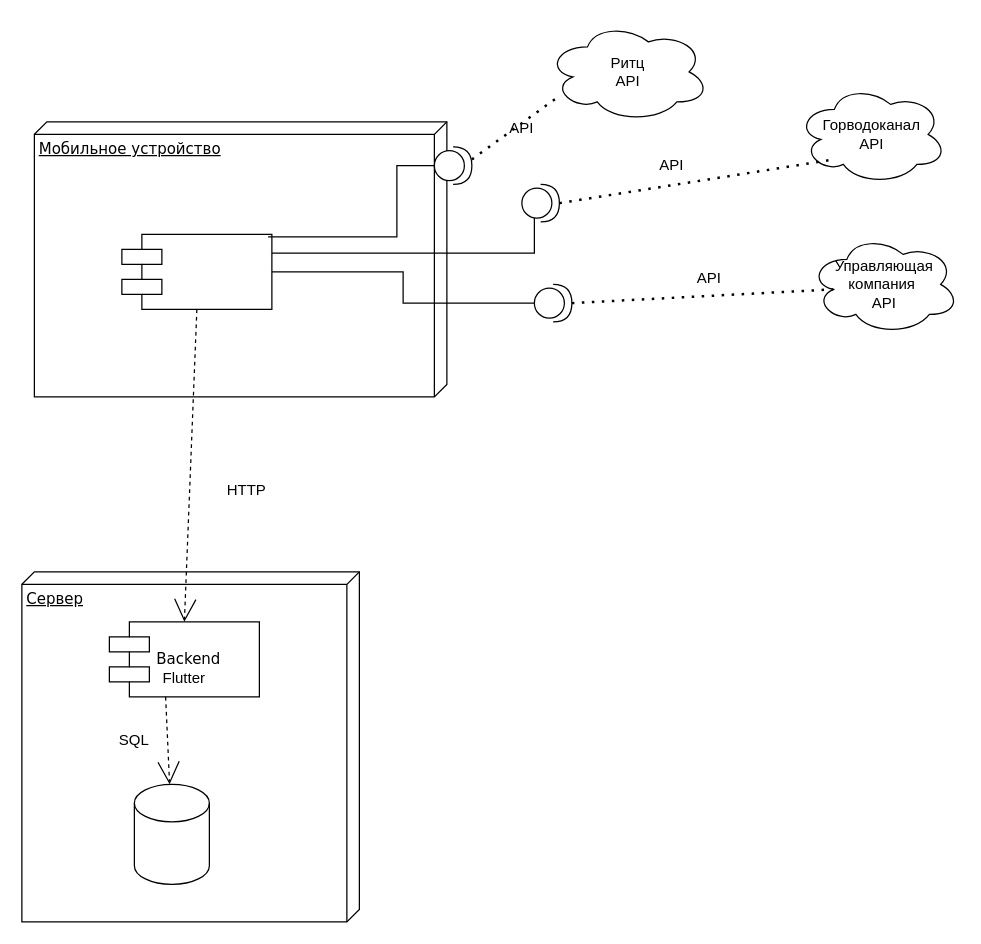
This 981x944 diagram has some shape labels left out. The shapes that lost their labels are listed below. From the top down, each one's centre as x and y in pixels, then its label:
At pixel 196 271: ".APK".
At pixel 171 833: "Posqre".
